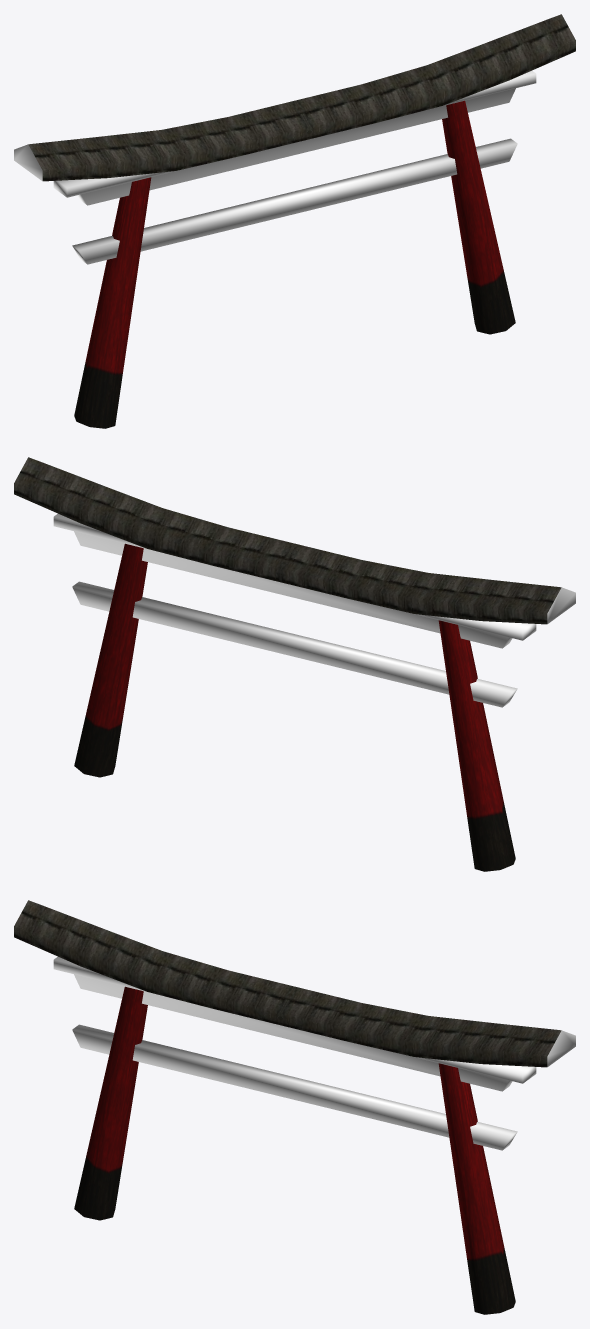
The model's file is Tori2.glb.
3 views of the same model, one above another, from view 1: azimuth 30°, elevation 25°; view 2: azimuth 150°, elevation 25°; view 3: azimuth 330°, elevation 25° (orthographic).
Parts seen in each view (by area): view 1: shintoB.jpg__, japanRedWood.png__, tree_zenRed.jpg__; view 2: shintoB.jpg__, japanRedWood.png__, tree_zenRed.jpg__; view 3: shintoB.jpg__, japanRedWood.png__, tree_zenRed.jpg__.
Boxes of the visible parts, bbox=[...] form: shintoB.jpg__: bbox=[28, 14, 575, 181]; japanRedWood.png__: bbox=[14, 70, 536, 264]; tree_zenRed.jpg__: bbox=[74, 100, 515, 428]; shintoB.jpg__: bbox=[14, 457, 561, 624]; japanRedWood.png__: bbox=[53, 513, 575, 707]; tree_zenRed.jpg__: bbox=[74, 543, 515, 871]; shintoB.jpg__: bbox=[14, 900, 561, 1067]; japanRedWood.png__: bbox=[53, 956, 575, 1150]; tree_zenRed.jpg__: bbox=[74, 986, 515, 1314].
Size of the model in its own units: 17.46 by 9.28 by 1.62.
3 materials, 2 textured.
